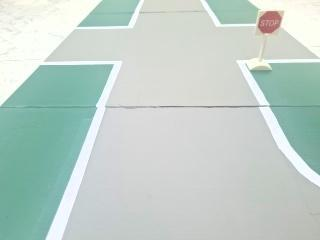stop: (254, 8, 284, 38)
